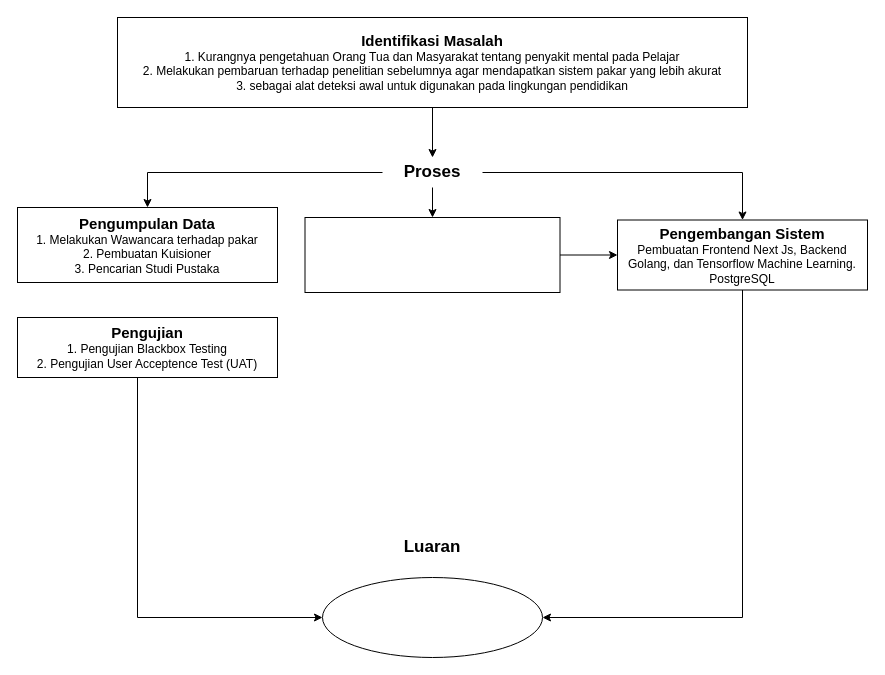
This 885x675 diagram has some shape labels left out. Here are the shapes that lost their labels. From the top down, the box of each, then its label:
(304, 216, 560, 292): Implementasi Algoritma Neural Network dan Backward Chaining
(322, 576, 542, 658): Aplikasi SIstem Pakar Mental Health
